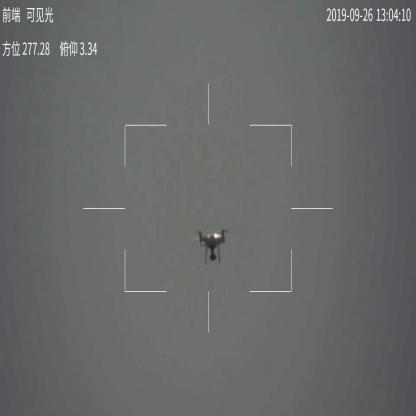uav: (188, 225, 232, 265)
